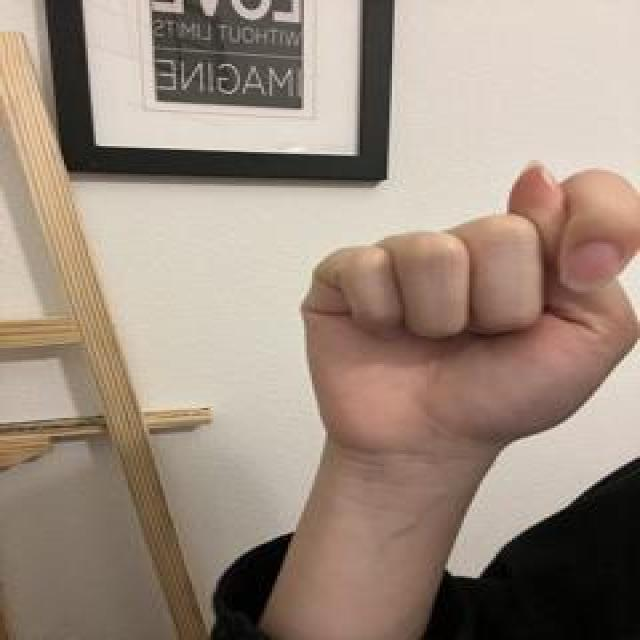T: (296, 147, 640, 467)
